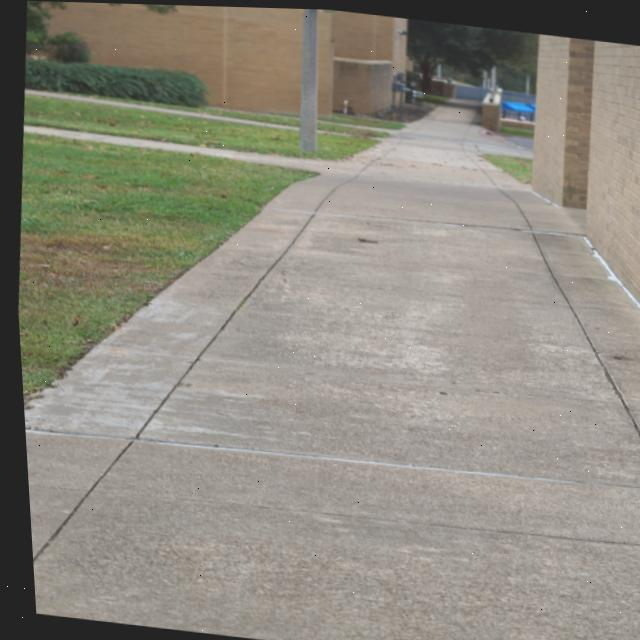Sidewalk: (19, 103, 640, 640), (23, 89, 296, 128)
